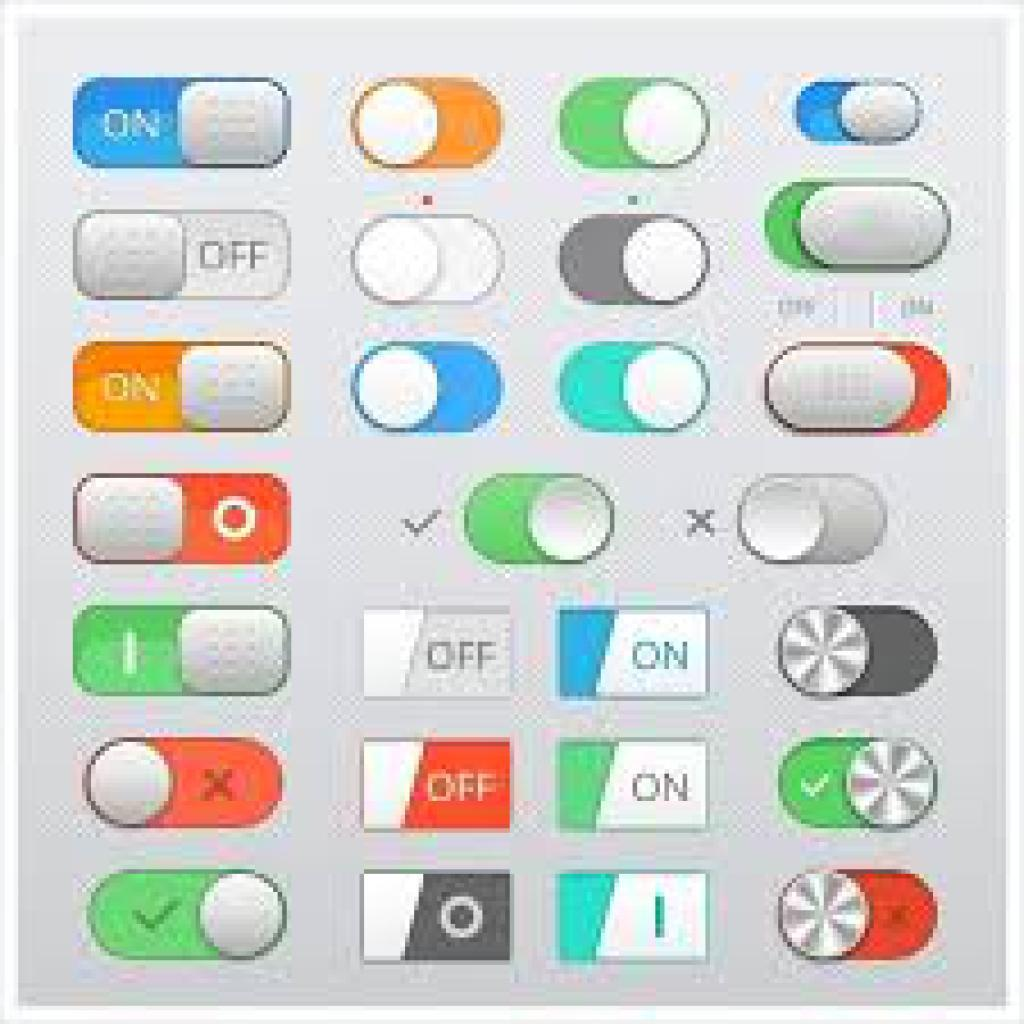switch: (72, 472, 293, 565), (72, 606, 293, 697), (74, 210, 294, 301), (85, 737, 290, 834), (74, 79, 290, 170), (74, 345, 293, 434), (87, 870, 289, 962), (768, 181, 951, 274), (764, 342, 951, 433), (775, 604, 941, 697), (781, 870, 941, 964), (557, 339, 710, 437), (365, 868, 515, 965), (351, 216, 508, 307), (737, 474, 892, 566), (559, 80, 712, 173), (557, 217, 710, 310), (364, 738, 513, 833), (781, 740, 938, 830), (351, 345, 506, 435), (558, 872, 711, 963), (560, 609, 708, 703), (555, 740, 707, 831), (354, 80, 503, 172), (467, 473, 617, 563), (367, 610, 514, 701), (797, 82, 923, 146)
